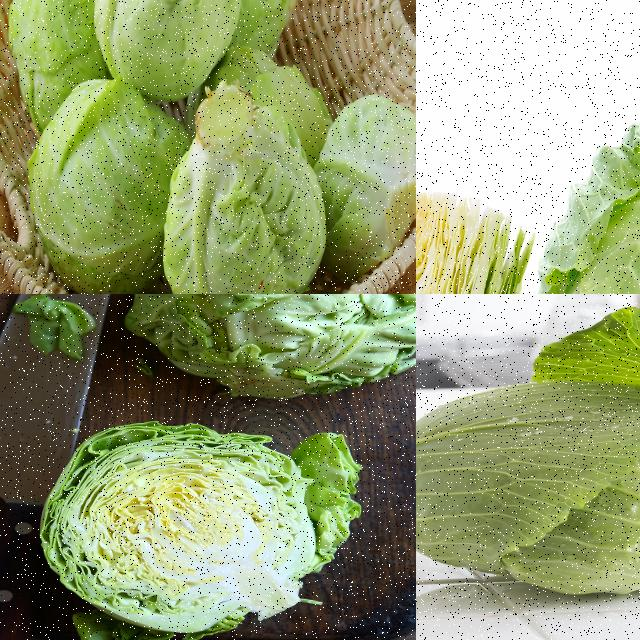cabbage: (35, 419, 367, 639), (416, 301, 639, 600), (160, 79, 325, 293), (27, 74, 181, 293), (119, 294, 415, 402), (519, 106, 639, 293), (313, 89, 415, 287), (94, 0, 237, 105), (416, 178, 537, 293), (6, 0, 117, 118), (189, 0, 297, 51)
